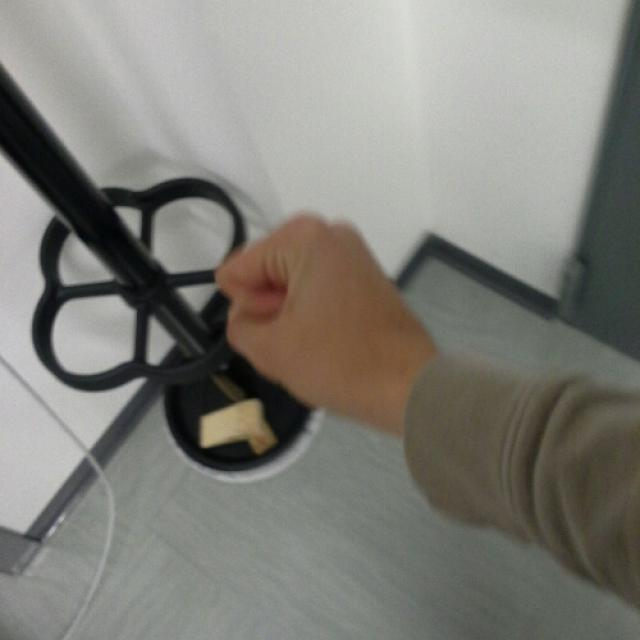rock: (218, 212, 407, 424)
